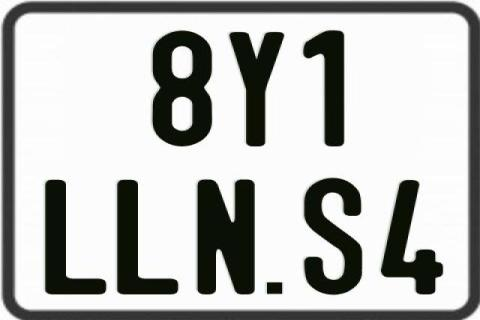0: (150, 31, 215, 150), (379, 178, 443, 294), (300, 28, 343, 146)
L: (44, 180, 111, 298), (115, 179, 177, 295)
N: (194, 177, 258, 295)
S: (304, 177, 368, 297)
Y: (226, 32, 284, 146)
